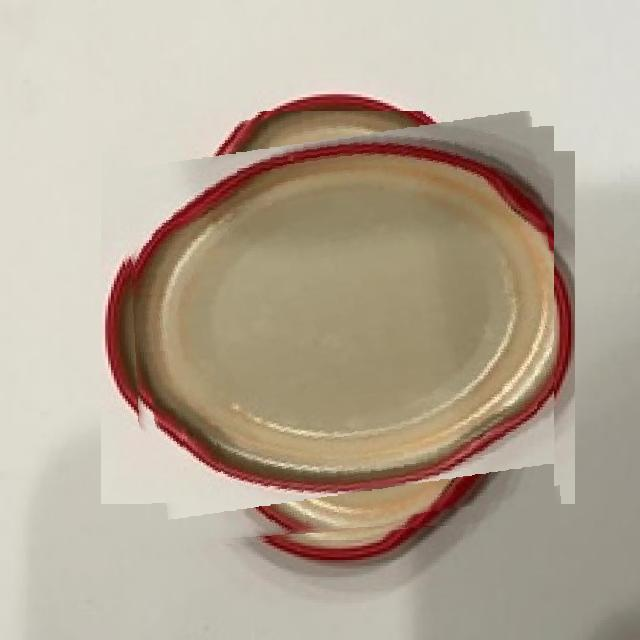recyclable: (123, 111, 554, 543)
